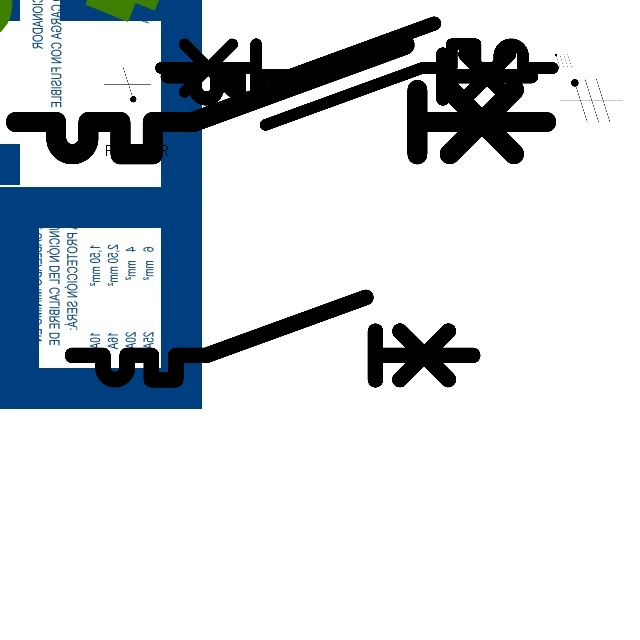interruptor_termomagnetico: (2, 31, 560, 168), (62, 287, 483, 390), (150, 34, 562, 135), (158, 14, 541, 108)
